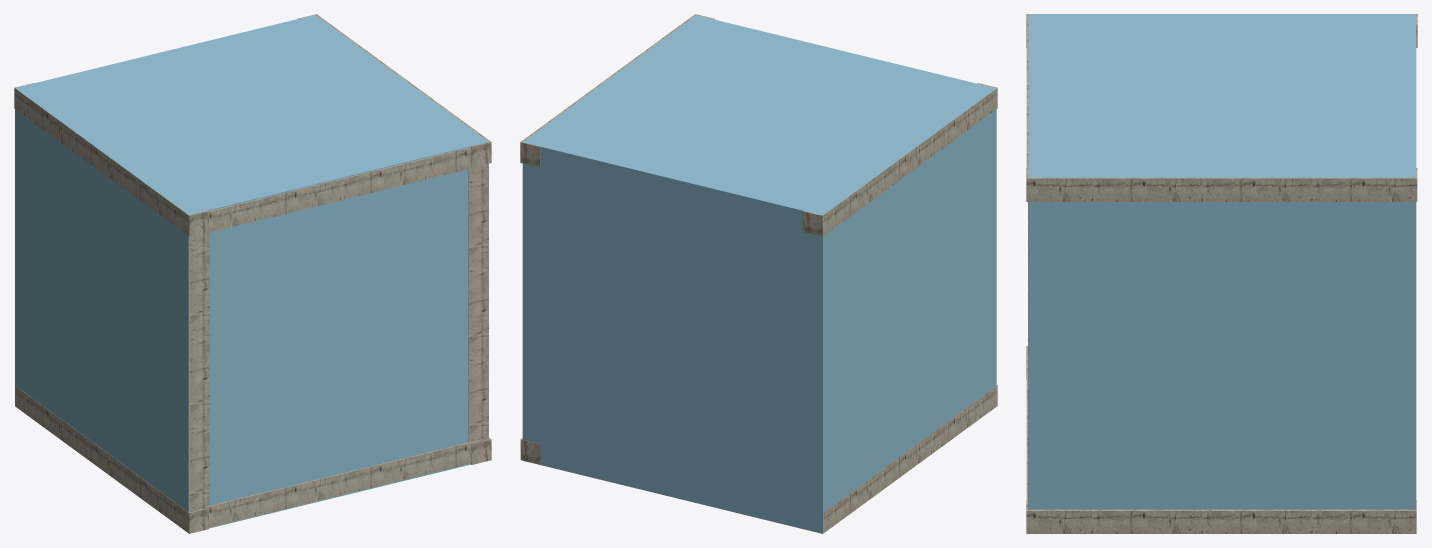
Rendered from Crate01.obj.
3 renders of one model, left to right at view 1: azimuth 30°, elevation 25°; view 2: azimuth 150°, elevation 25°; view 3: azimuth 270°, elevation 25°, orthographic. The views are drawn at different scales.
Parts seen in each view (by area): view 1: Box03; view 2: Box03; view 3: Box03.
Part boxes in pixels (box(x1,y1,x2,y2)): Box03: box(14, 14, 491, 533); Box03: box(520, 14, 997, 533); Box03: box(1026, 14, 1417, 533).
Size of the model in its own units: 1.53 by 1.54 by 1.53.
Materials: 3 (2 with a texture image).
